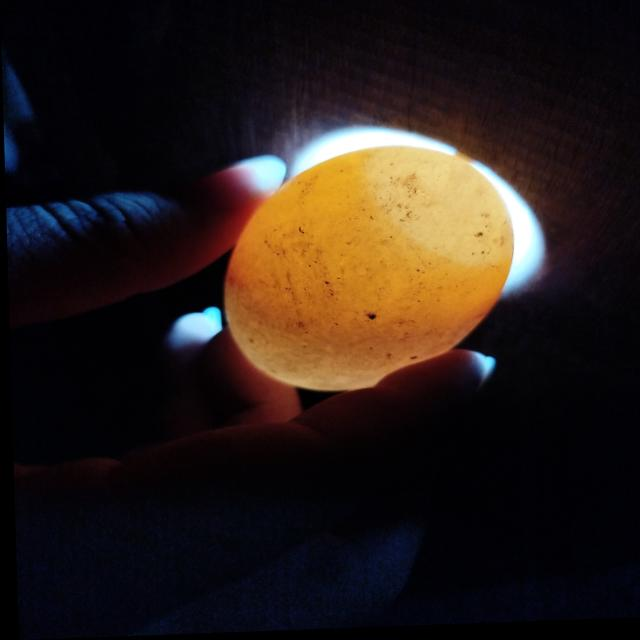Camara de Ar: (370, 151, 515, 271)
